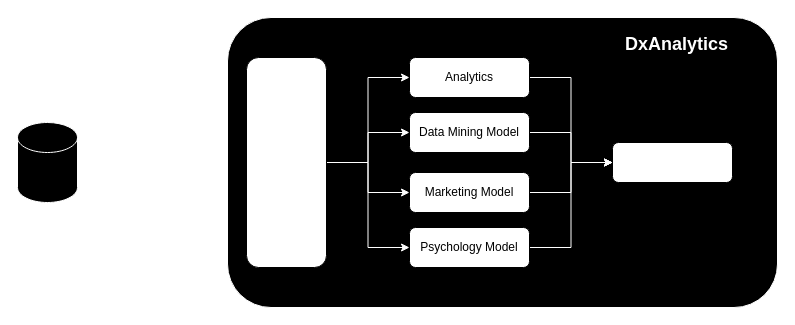
Some shapes in this 795 by 325 pixel diagram are drawn without their labels. The shapes that lost their labels are listed below. From the top down, each one's centre as x and y in pixels, then its label:
(286,162): Component ETL ELT ETLT
(672,162): Information
